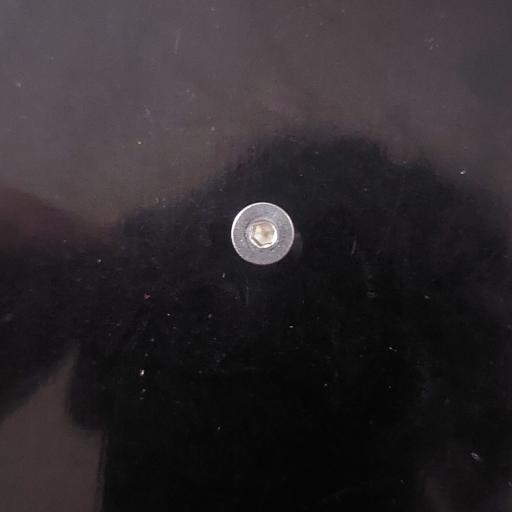Hex-Allen: (232, 200, 296, 267)
